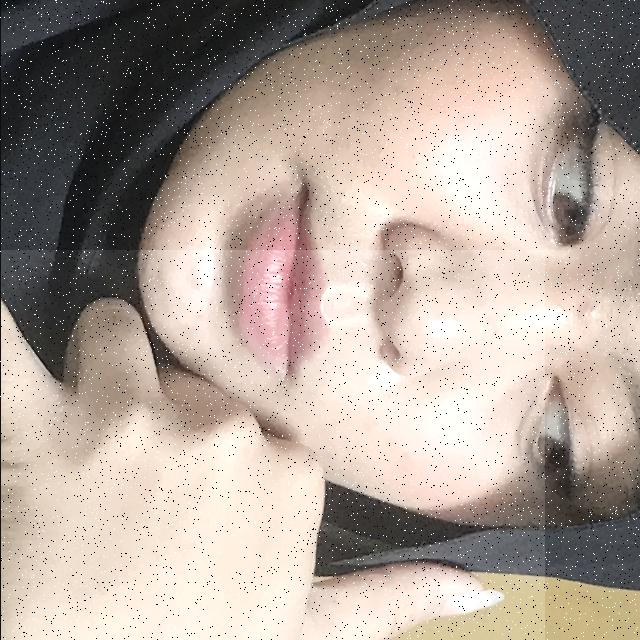telpon: (0, 250, 544, 640)
